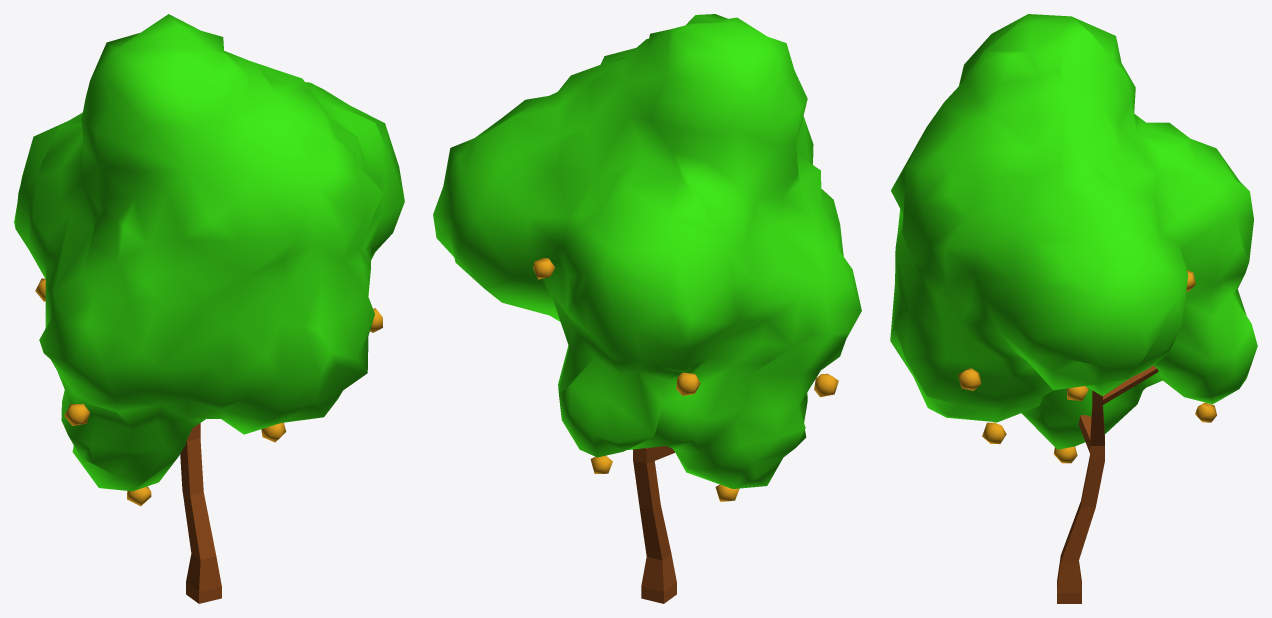
Rendered from SM_OrangeTree_001_LOD4.fbx.
The picture shows the model from 3 angles, left to right: view 1: azimuth 30°, elevation 25°; view 2: azimuth 150°, elevation 25°; view 3: azimuth 270°, elevation 25°; orthographic projection. The views are drawn at different scales.
Visible parts, largest first — view 1: OrangeTree_01; view 2: OrangeTree_01; view 3: OrangeTree_01.
Part boxes in pixels (box(x1,y1,x2,y2)): OrangeTree_01: box(14, 14, 404, 603); OrangeTree_01: box(433, 14, 861, 603); OrangeTree_01: box(890, 14, 1257, 603).
Size of the model in its own units: 186 by 276 by 166.
